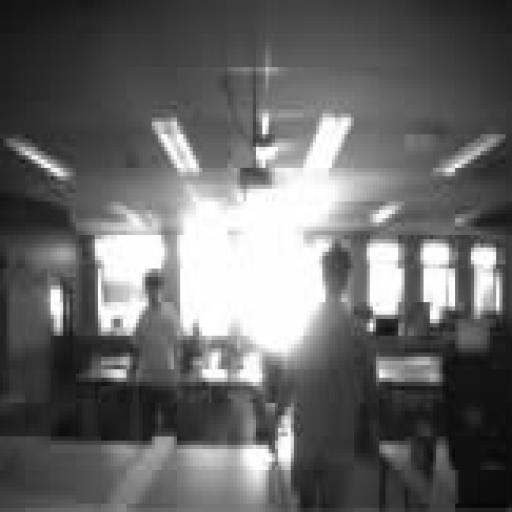human: (279, 244, 376, 511), (133, 269, 183, 436)
